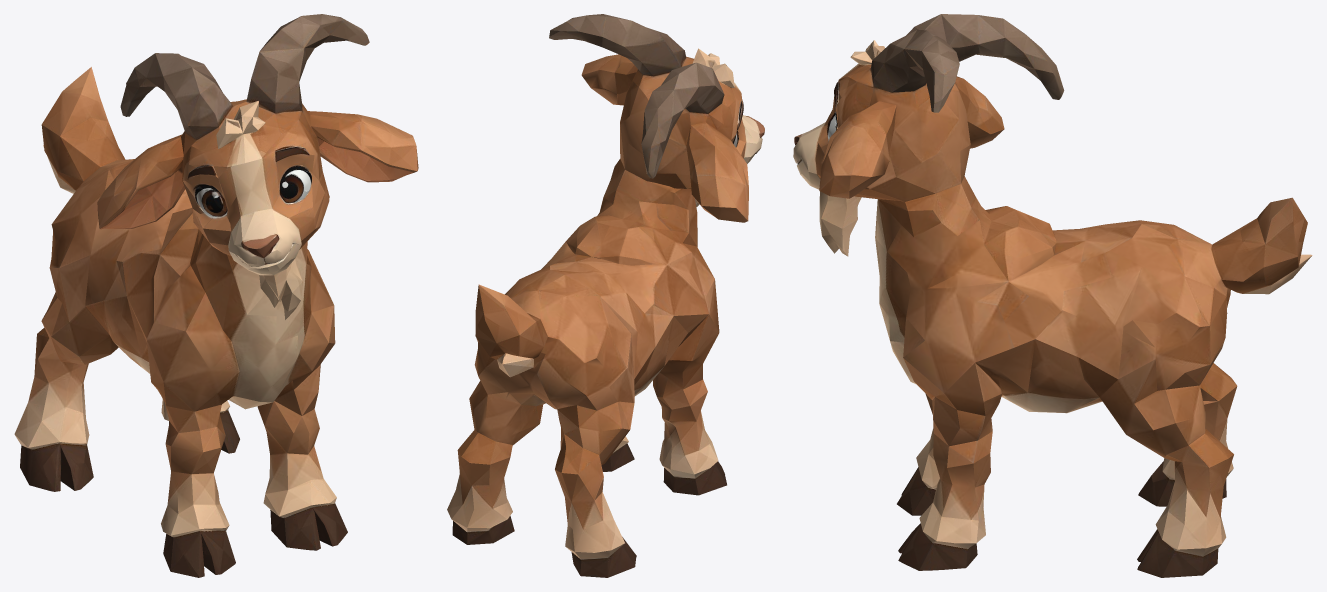
Rendered from goat-a.glb.
The picture shows the model from 3 angles, left to right: view 1: azimuth 30°, elevation 25°; view 2: azimuth 150°, elevation 25°; view 3: azimuth 270°, elevation 25°; orthographic projection. The views are drawn at different scales.
Size of the model in its own units: 0.9655 by 1.9 by 1.74.
1 material, 1 textured.
